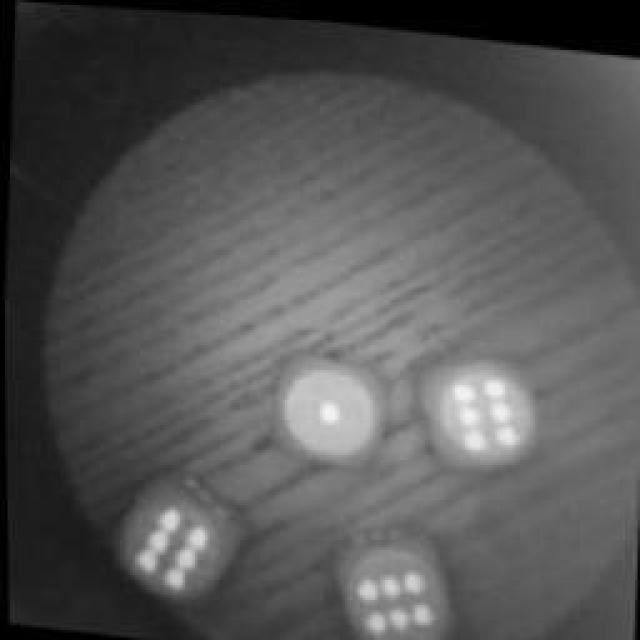dice_1: (264, 341, 394, 481)
dice_6: (106, 462, 252, 622), (408, 335, 552, 480), (317, 515, 465, 640)
